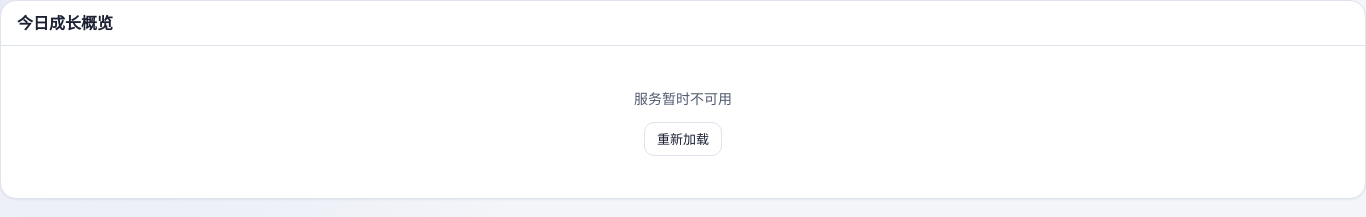
Scenario: PlatformOverviewCard › 总览加载失败时展示错误并支持重试
Check: the message shows "服务暂时不可用", box [634, 90, 732, 107]
Click the button "重新加载" at (683,139), box [644, 122, 722, 156]
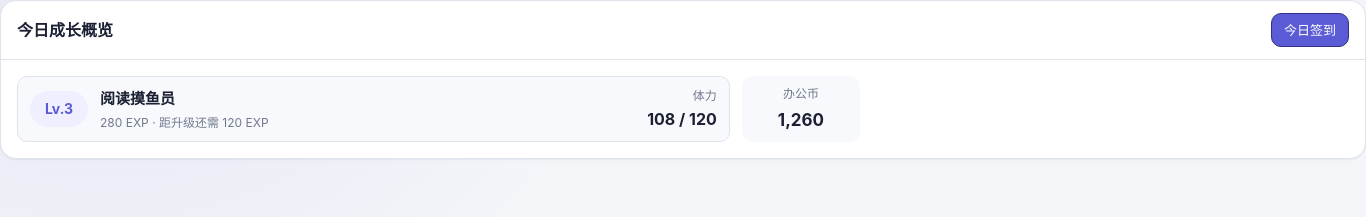
Check: the text "阅读摸鱼员" is shown, box [100, 89, 175, 108]
